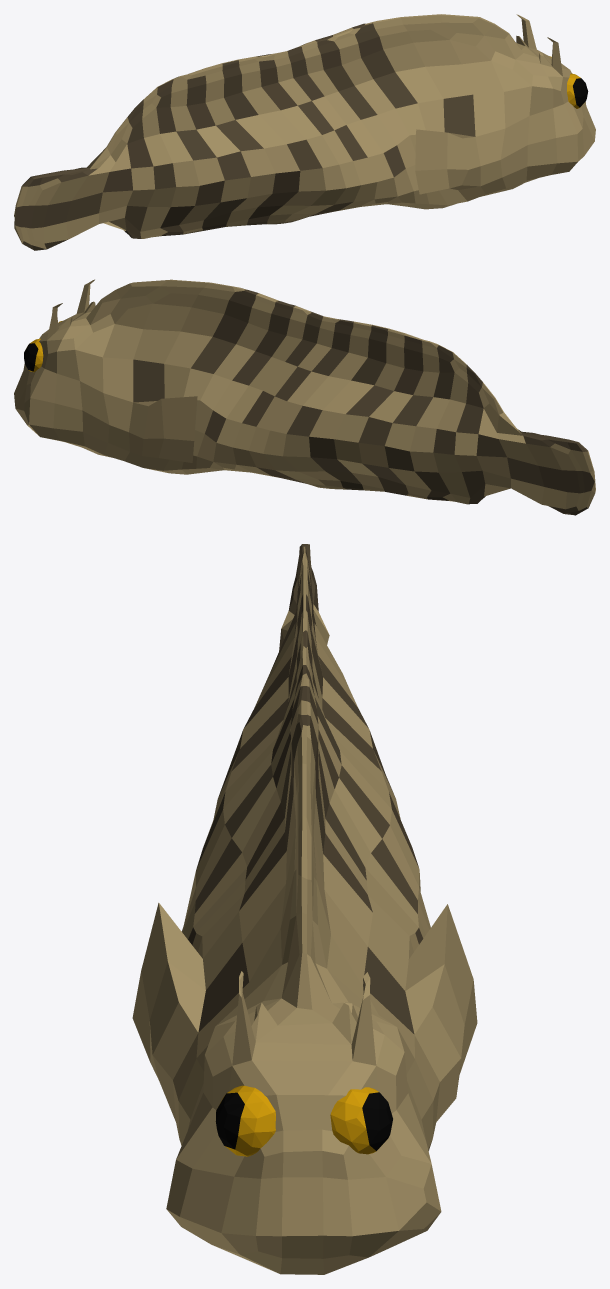
File: BLENNY.fbx
3 views of the same model, one above another, from view 1: azimuth 30°, elevation 25°; view 2: azimuth 150°, elevation 25°; view 3: azimuth 270°, elevation 25° (orthographic). The views are drawn at different scales.
Parts seen in each view (by area): view 1: Sphere.006; view 2: Sphere.006; view 3: Sphere.006.
Boxes of the visible parts, x1,y1,x2,y2 form: Sphere.006: (14,14,595,250); Sphere.006: (14,279,595,515); Sphere.006: (132,544,477,1274).
Bounding box in the file's own units: 6.68 × 2.14 × 1.75.
